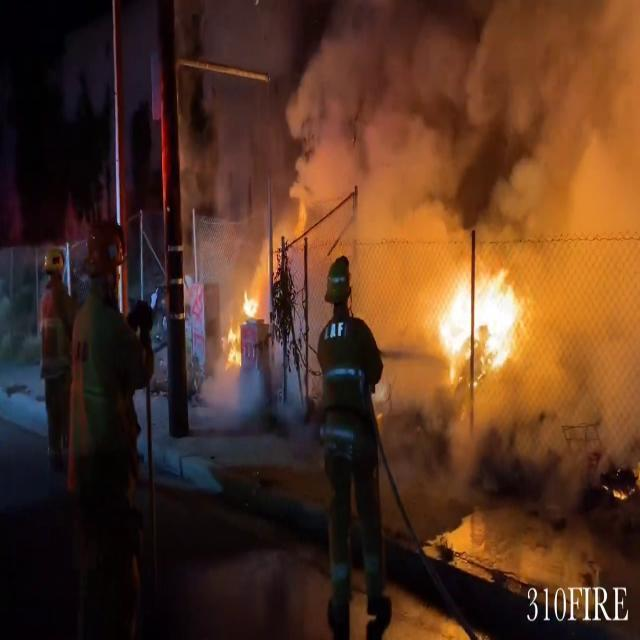Fire: (429, 242, 533, 386), (224, 281, 262, 368)
Smoke: (191, 0, 640, 360)
